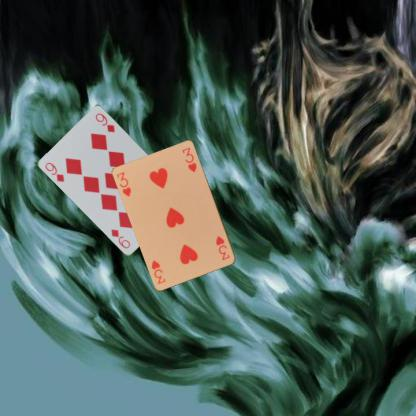3h: (213, 233, 231, 262), (115, 169, 132, 198)
9d: (43, 160, 66, 183)
